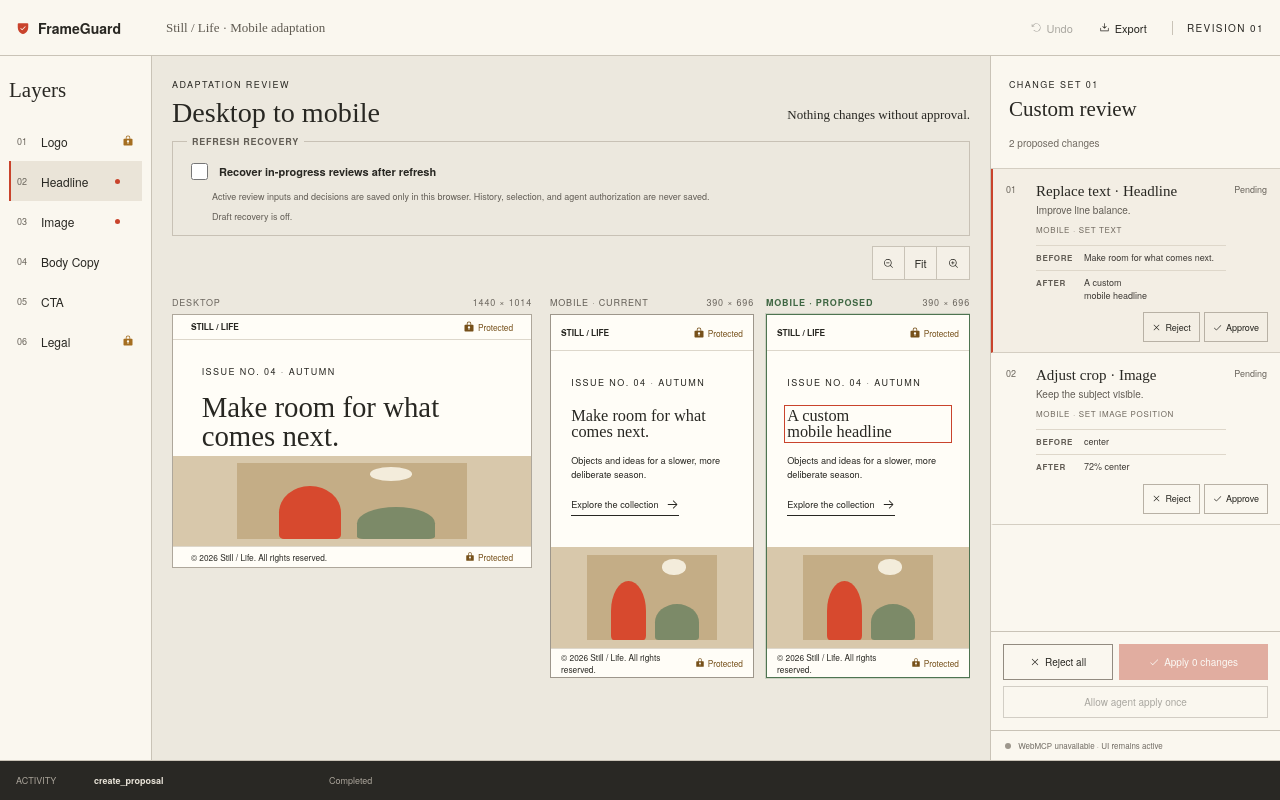
Test: reviews individual changes, applies only approval, records history, and undoes
Click the button with aria-label "Approve Headline change" at (1236, 327), box [1204,312,1268,342]
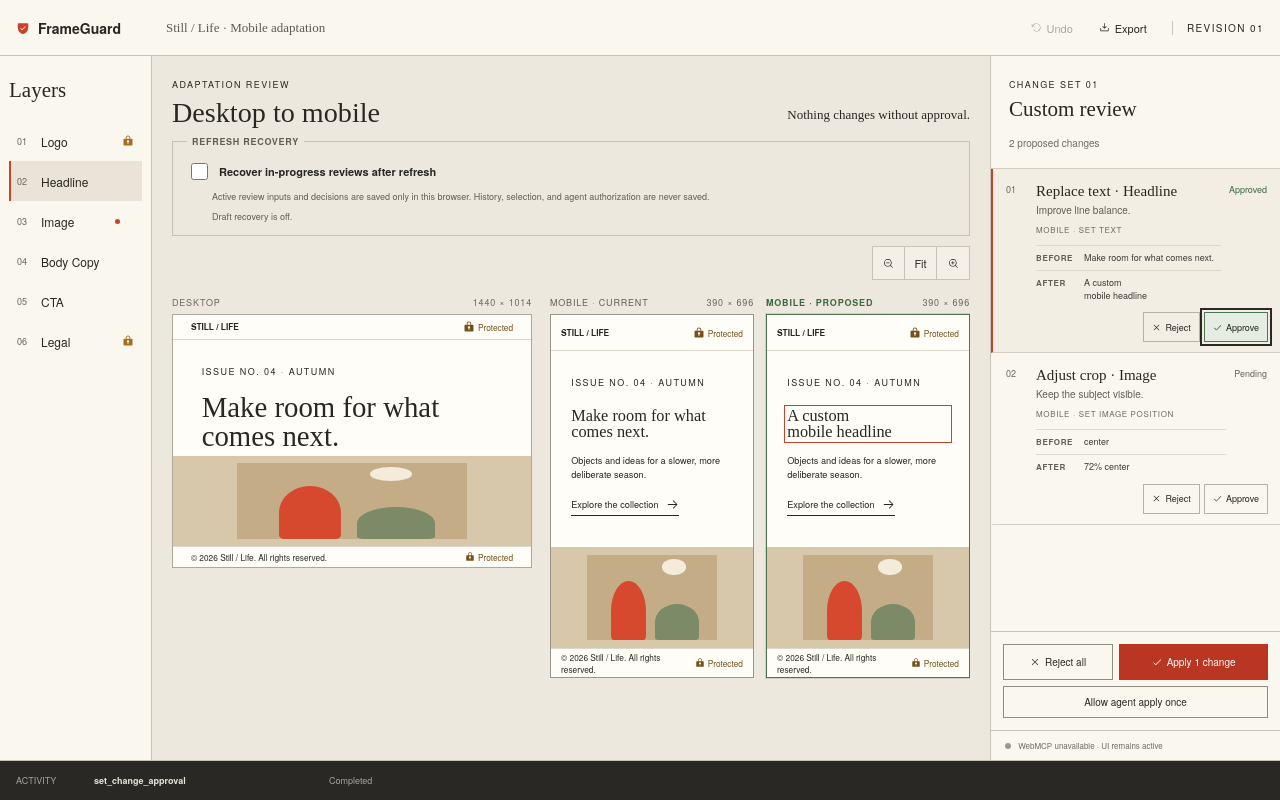
Click the button with aria-label "Reject Image change" at (1172, 499), box [1144,484,1200,514]
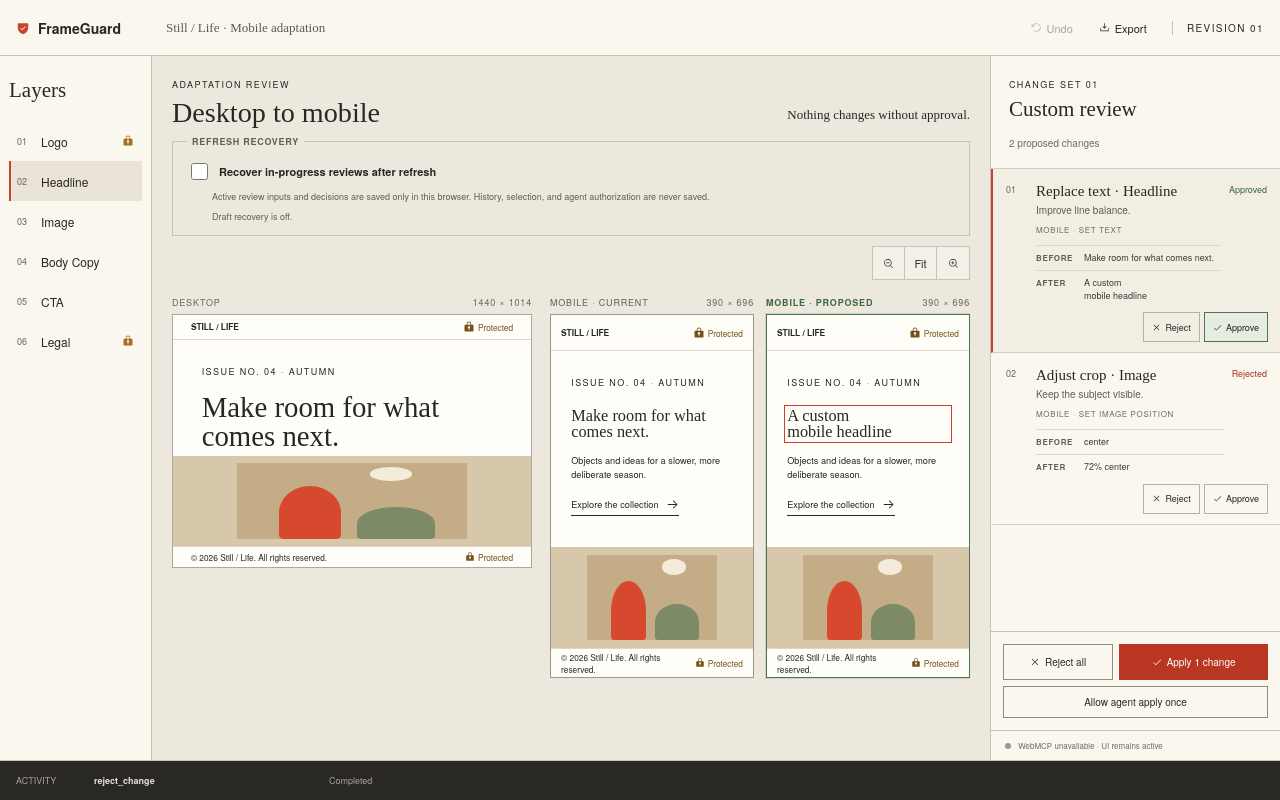
Expected: the text "Approved" is shown, [1229,183,1267,196]
Expected: the text "Rejected" is shown, [1232,367,1267,380]
Click the button "Apply 1 change" at (1194, 662), box [1119,644,1268,680]
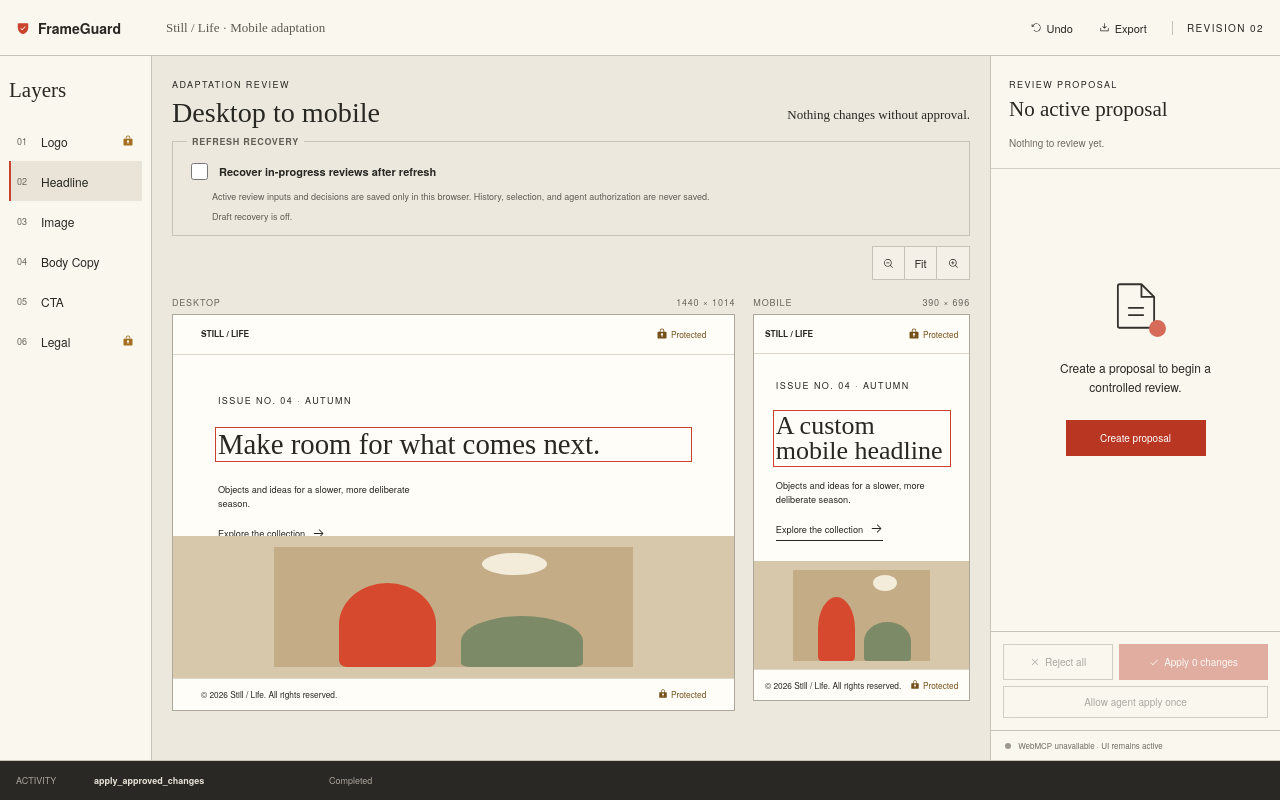
Expected: the text "REVISION 02" is shown, [1172,20,1264,34]
Click the button "Undo" at (1052, 28), box [1020,12,1083,44]
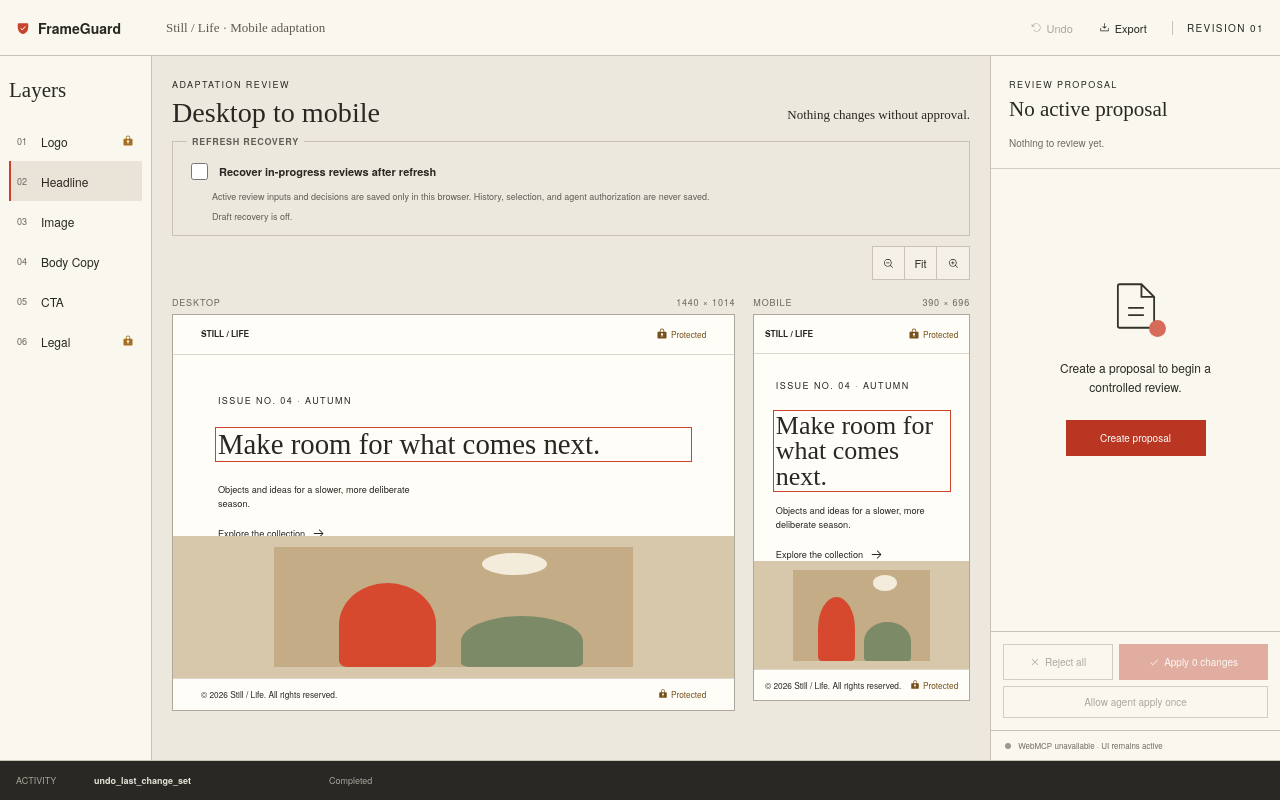
Expected: the text "REVISION 01" is shown, [1172,20,1264,34]
